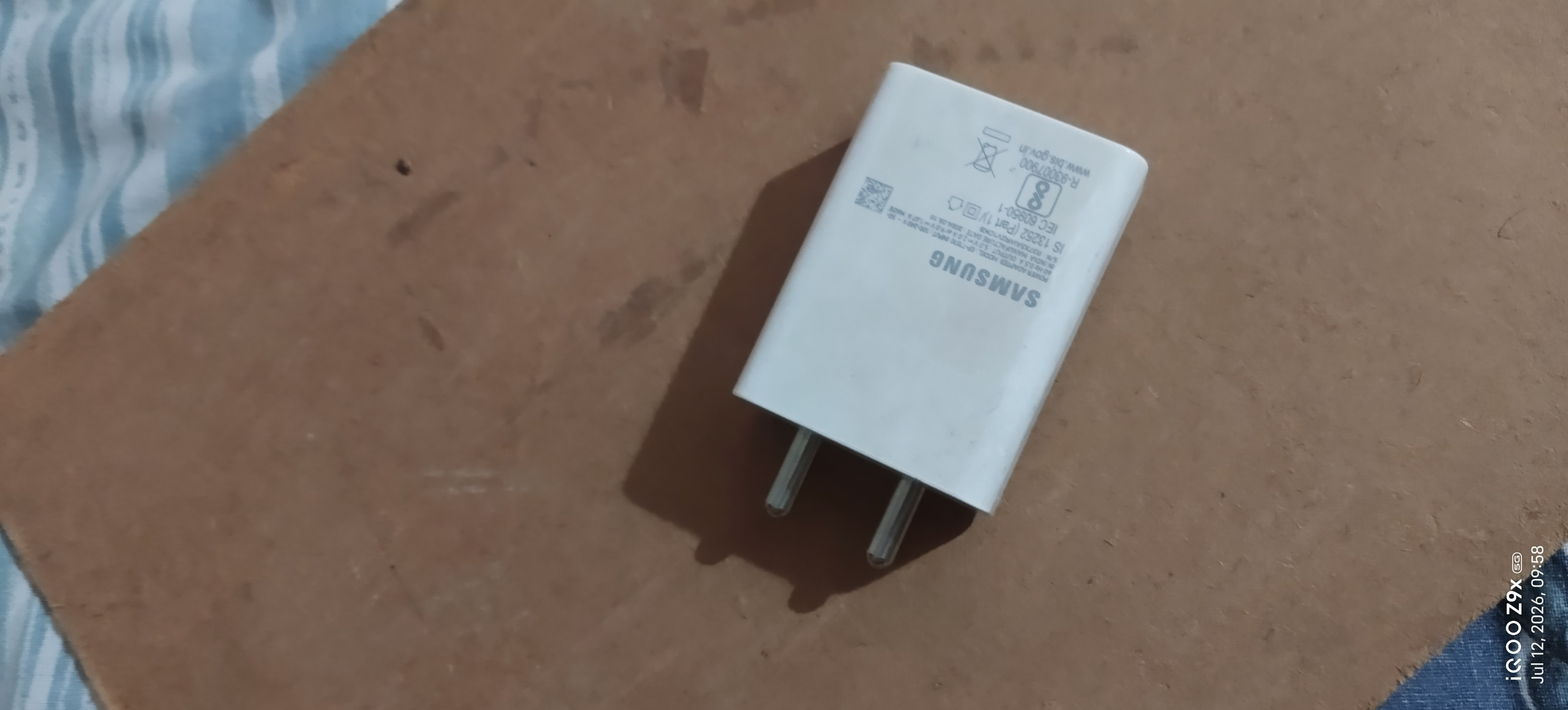charger: (699, 28, 1187, 609)
